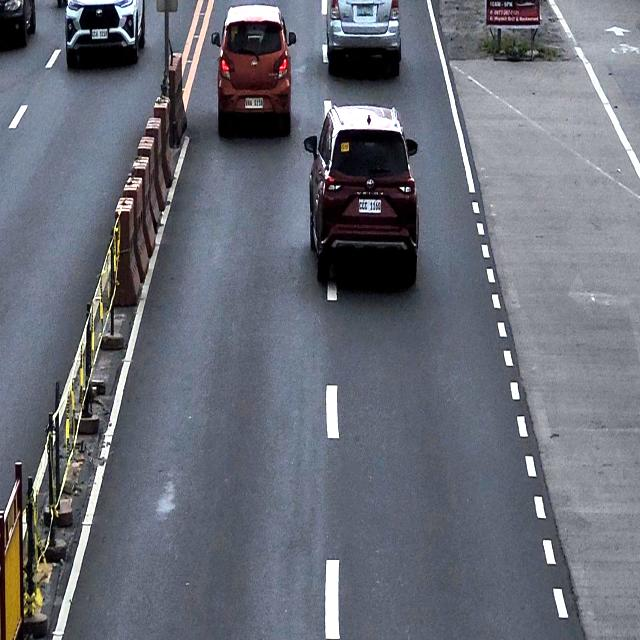Car: (304, 102, 419, 285), (210, 4, 296, 137), (324, 0, 402, 76), (64, 0, 146, 69), (0, 0, 36, 46)
License-Plate: (357, 195, 382, 214), (356, 3, 374, 17), (245, 97, 264, 109), (91, 29, 108, 40)
